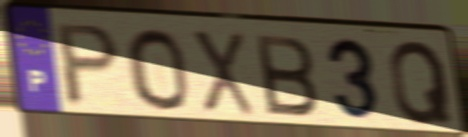3: (321, 35, 384, 124)
B: (252, 31, 322, 119)
O: (123, 25, 192, 113)
P: (55, 21, 123, 109)
Q: (387, 37, 455, 127)
X: (188, 27, 258, 119)
